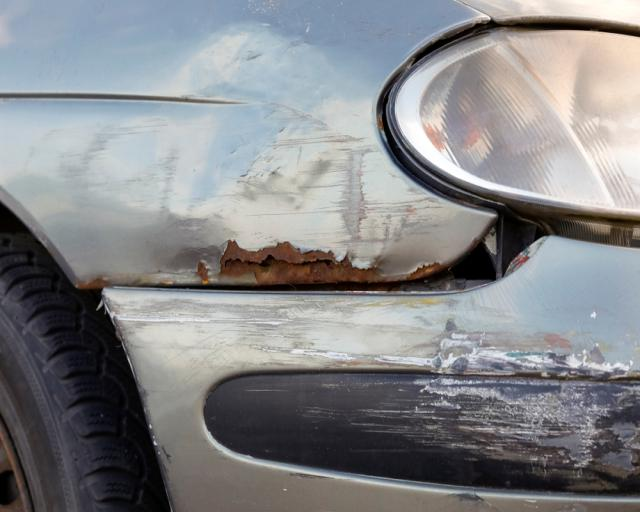crack: (222, 253, 330, 269)
dent: (164, 30, 359, 252)
scratch: (102, 284, 640, 512), (26, 111, 186, 218), (350, 136, 454, 263)
